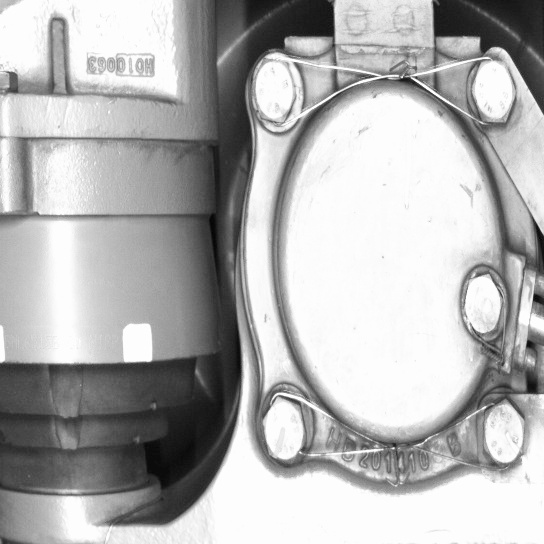IronWire: (251, 386, 534, 480), (241, 48, 523, 133)
Screw: (250, 385, 314, 471), (240, 48, 305, 132), (453, 262, 514, 348), (461, 49, 523, 131), (474, 392, 532, 477)
